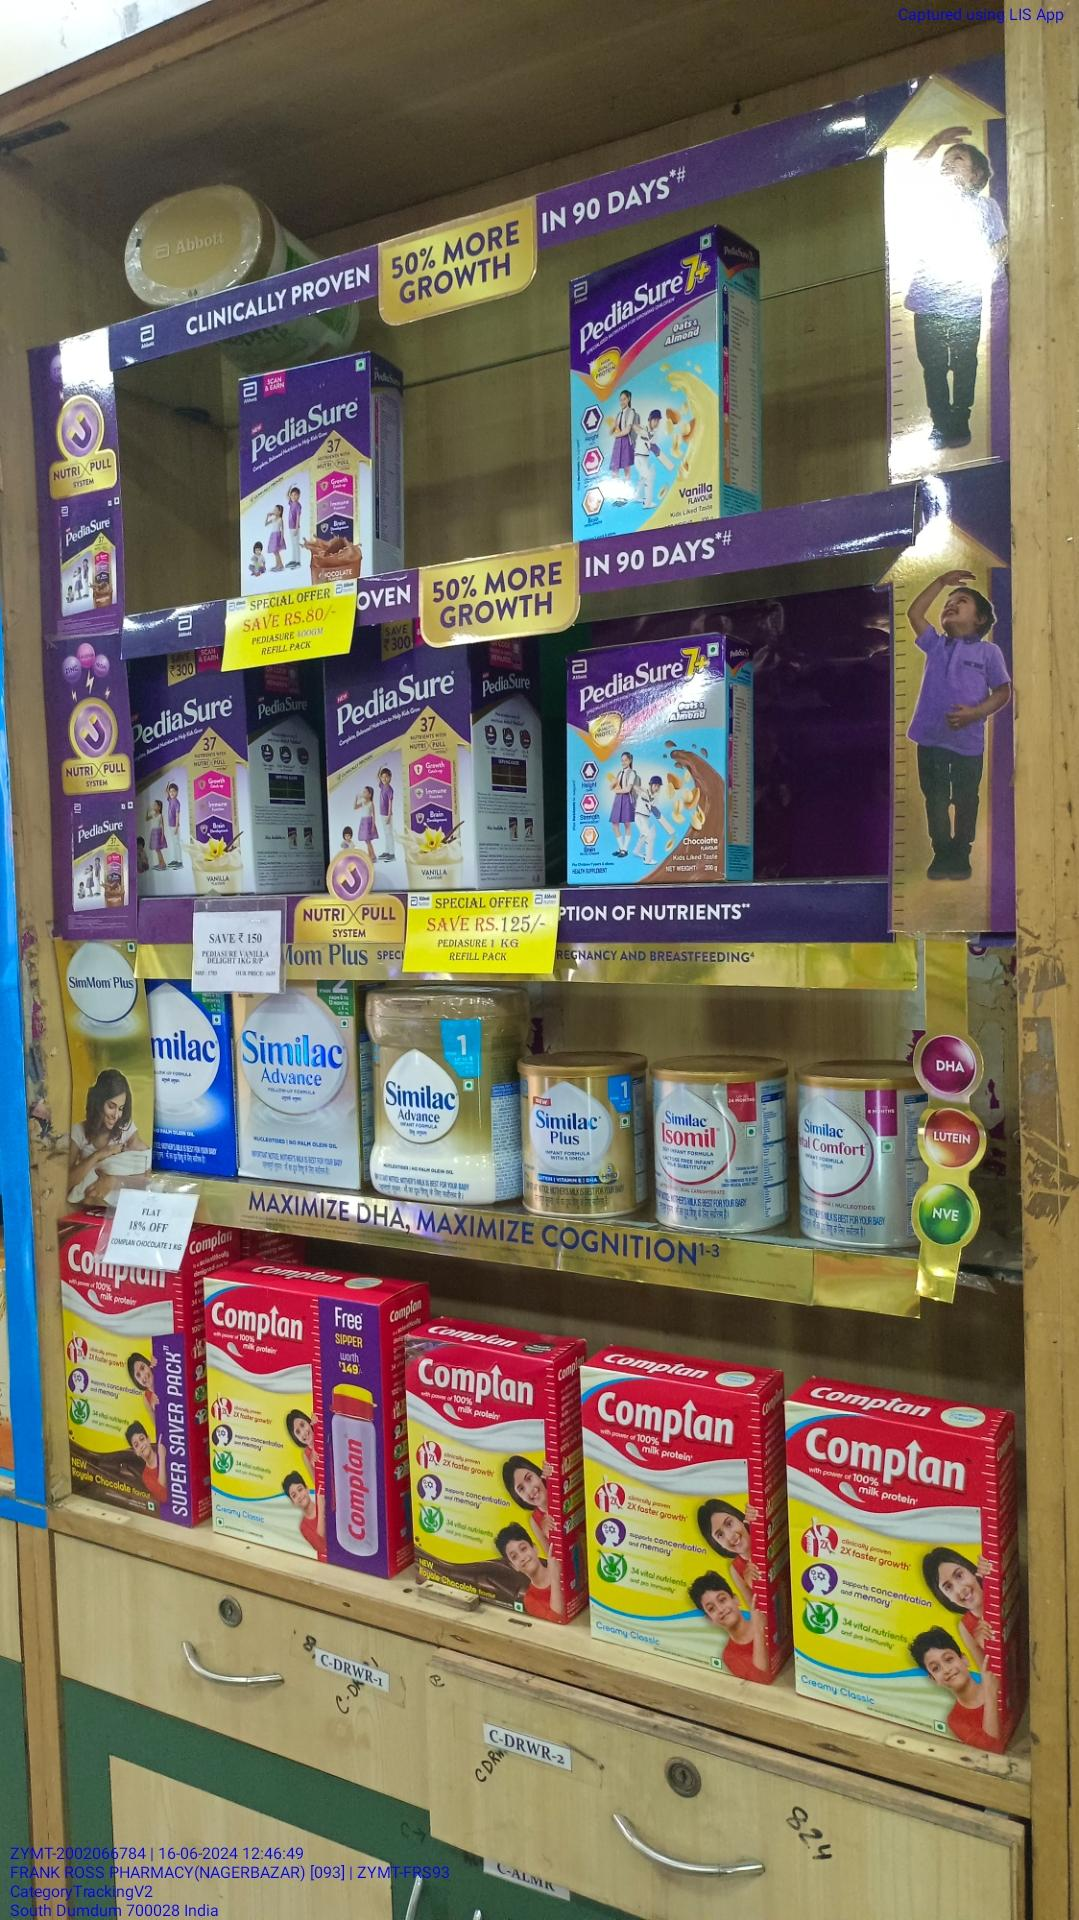PEDIASURE_7_PLUS_CHOCOLATE_400_G_PACK: (566, 644, 731, 885), (240, 353, 375, 597)
PEDIASURE_VANILLA_500_G_PACK: (322, 616, 487, 886), (116, 670, 249, 909)
